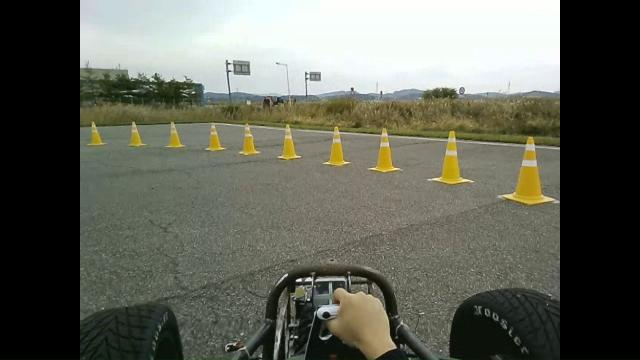yellow cone: (501, 136, 555, 205), (429, 130, 474, 184), (367, 126, 402, 173), (322, 126, 350, 166), (276, 123, 302, 160), (238, 122, 260, 155), (204, 122, 226, 151), (164, 121, 186, 148), (126, 120, 147, 147), (85, 120, 106, 146)
